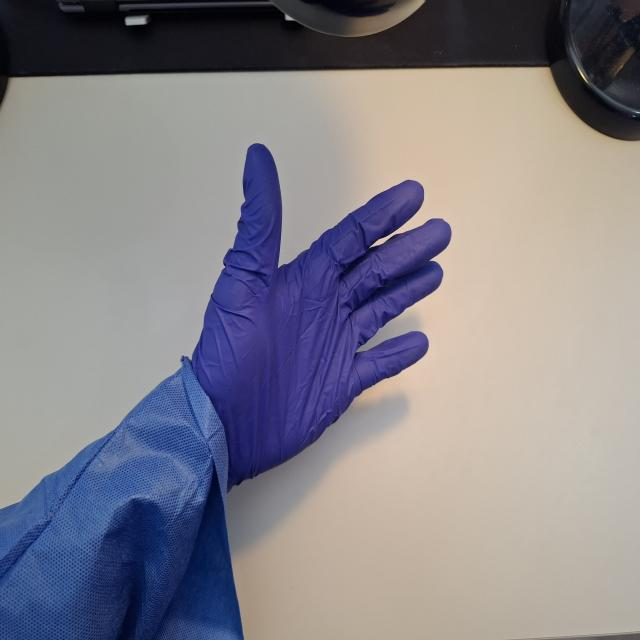glove_on: (183, 140, 454, 498)
